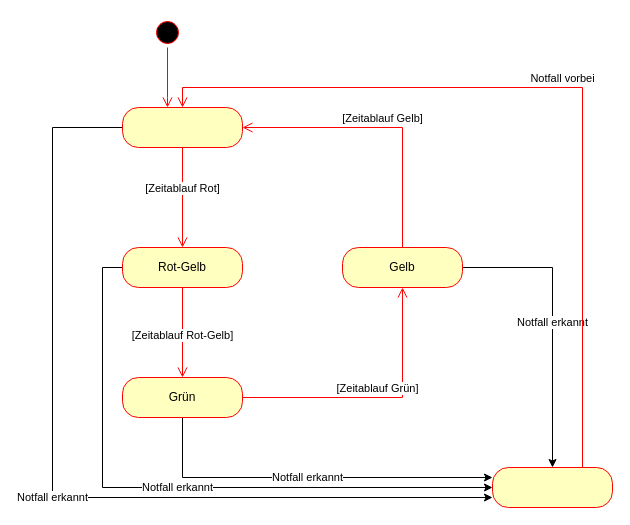
Some shapes in this 630 by 525 pixel diagram are drawn without their labels. The shapes that lost their labels are listed below. From the top down, each one's centre as x and y in pixels, then its label:
At (182,127): "Rot".
At (552,487): "Notfall-Rot".
